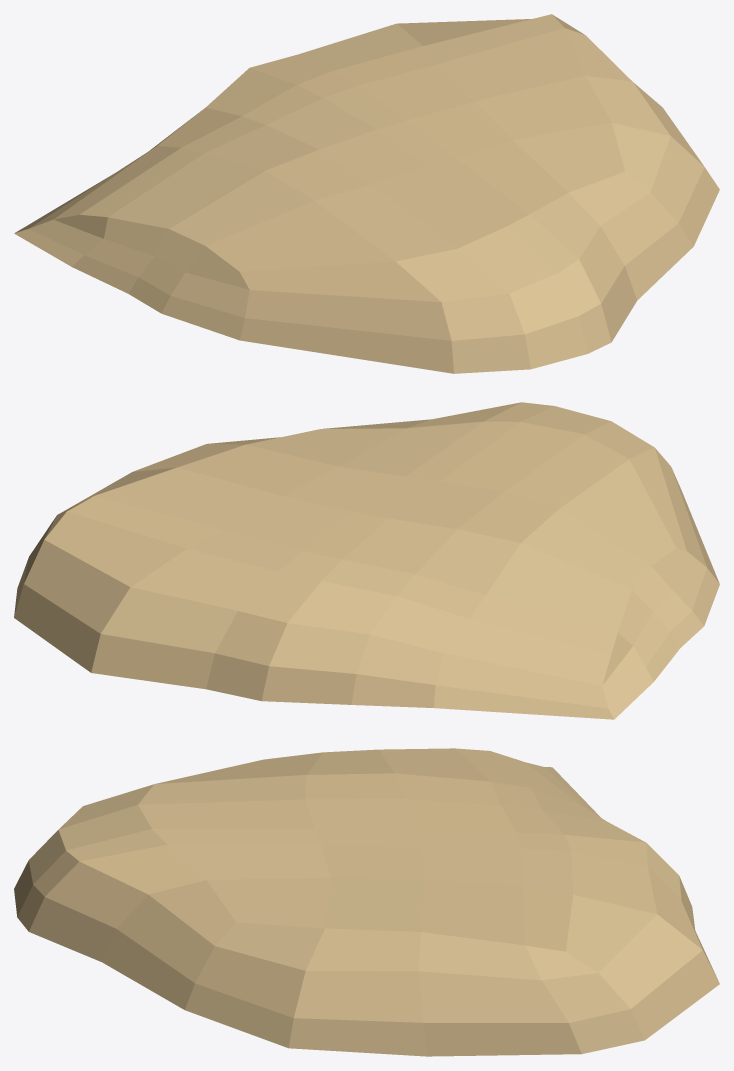
File: Sand_3_low.fbx
3 renders of one model, top to bottom at view 1: azimuth 30°, elevation 25°; view 2: azimuth 150°, elevation 25°; view 3: azimuth 270°, elevation 25°, orthographic.
Parts seen in each view (by area): view 1: Sand_3_low; view 2: Sand_3_low; view 3: Sand_3_low.
Part boxes in pixels (x1,y1,x2,y2): Sand_3_low: (14,14,719,373); Sand_3_low: (14,402,719,719); Sand_3_low: (14,748,719,1056).
Size of the model in its own units: 0.5032 by 0.0686 by 0.5189.
